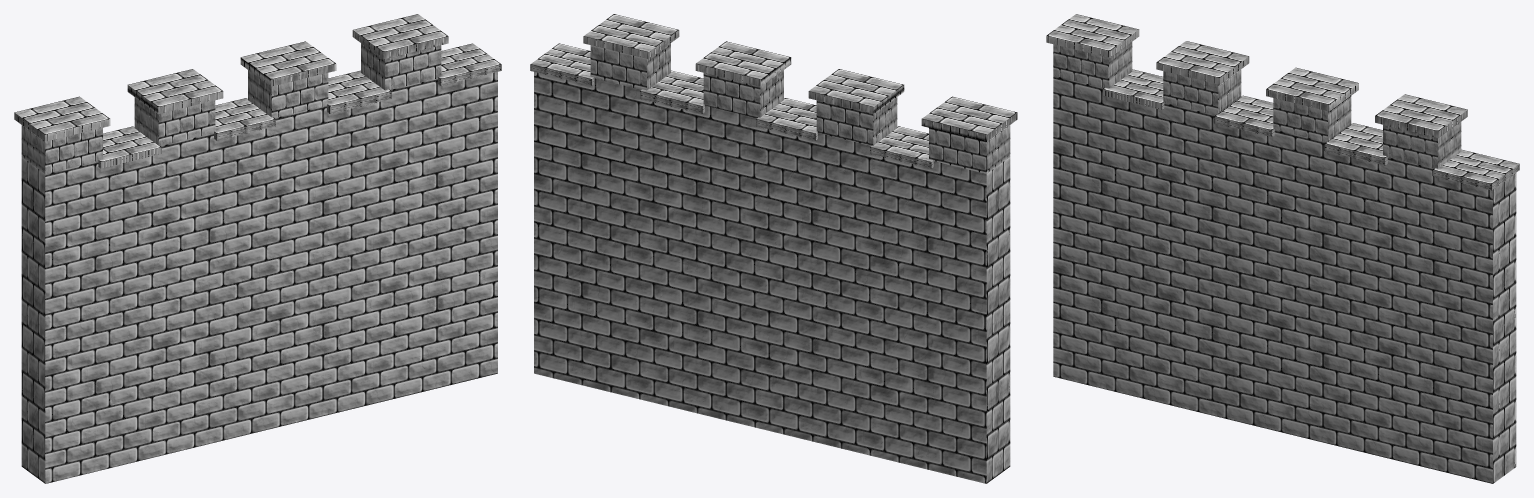
Rendered from stonewall.fbx.
3 renders of one model, left to right at view 1: azimuth 30°, elevation 25°; view 2: azimuth 150°, elevation 25°; view 3: azimuth 330°, elevation 25°, orthographic. The views are drawn at different scales.
Visible parts, largest first — view 1: Cube; view 2: Cube; view 3: Cube.
Part boxes in pixels (x1,y1,x2,y2): Cube: (14,14,501,483); Cube: (530,14,1017,483); Cube: (1046,14,1519,483).
Size of the model in its own units: 2214 by 1630 by 255.
